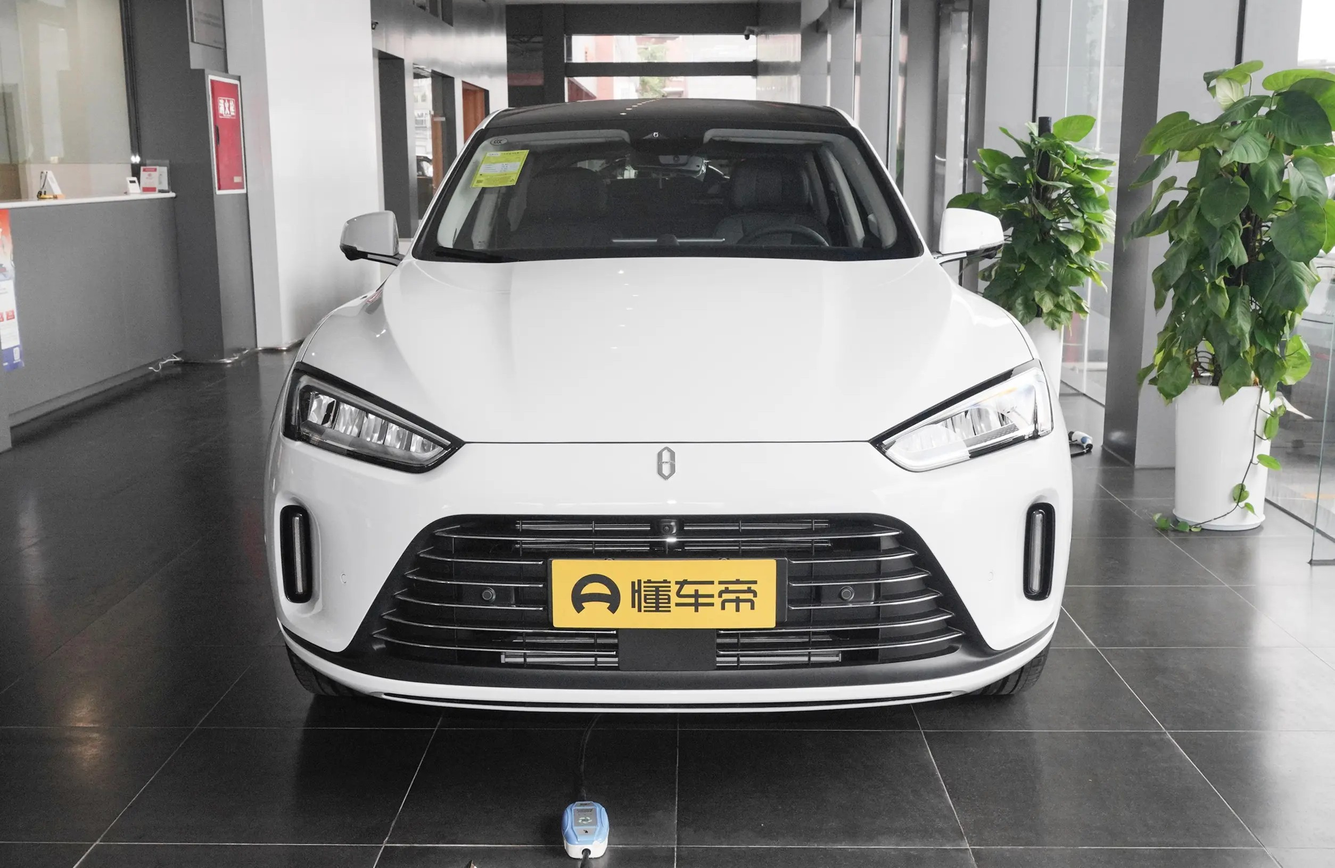AITO: (658, 447, 675, 480)
